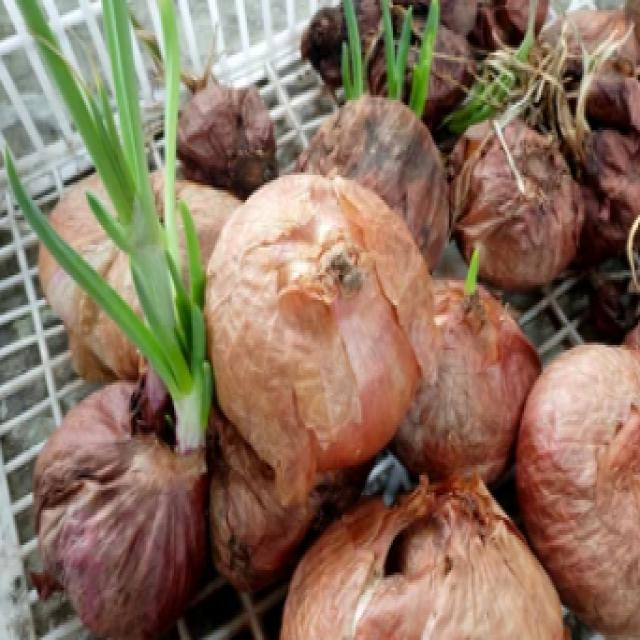rotten: (356, 114, 426, 178), (224, 95, 274, 173)
sprouting: (43, 55, 212, 445), (479, 30, 571, 145), (454, 240, 486, 320)
